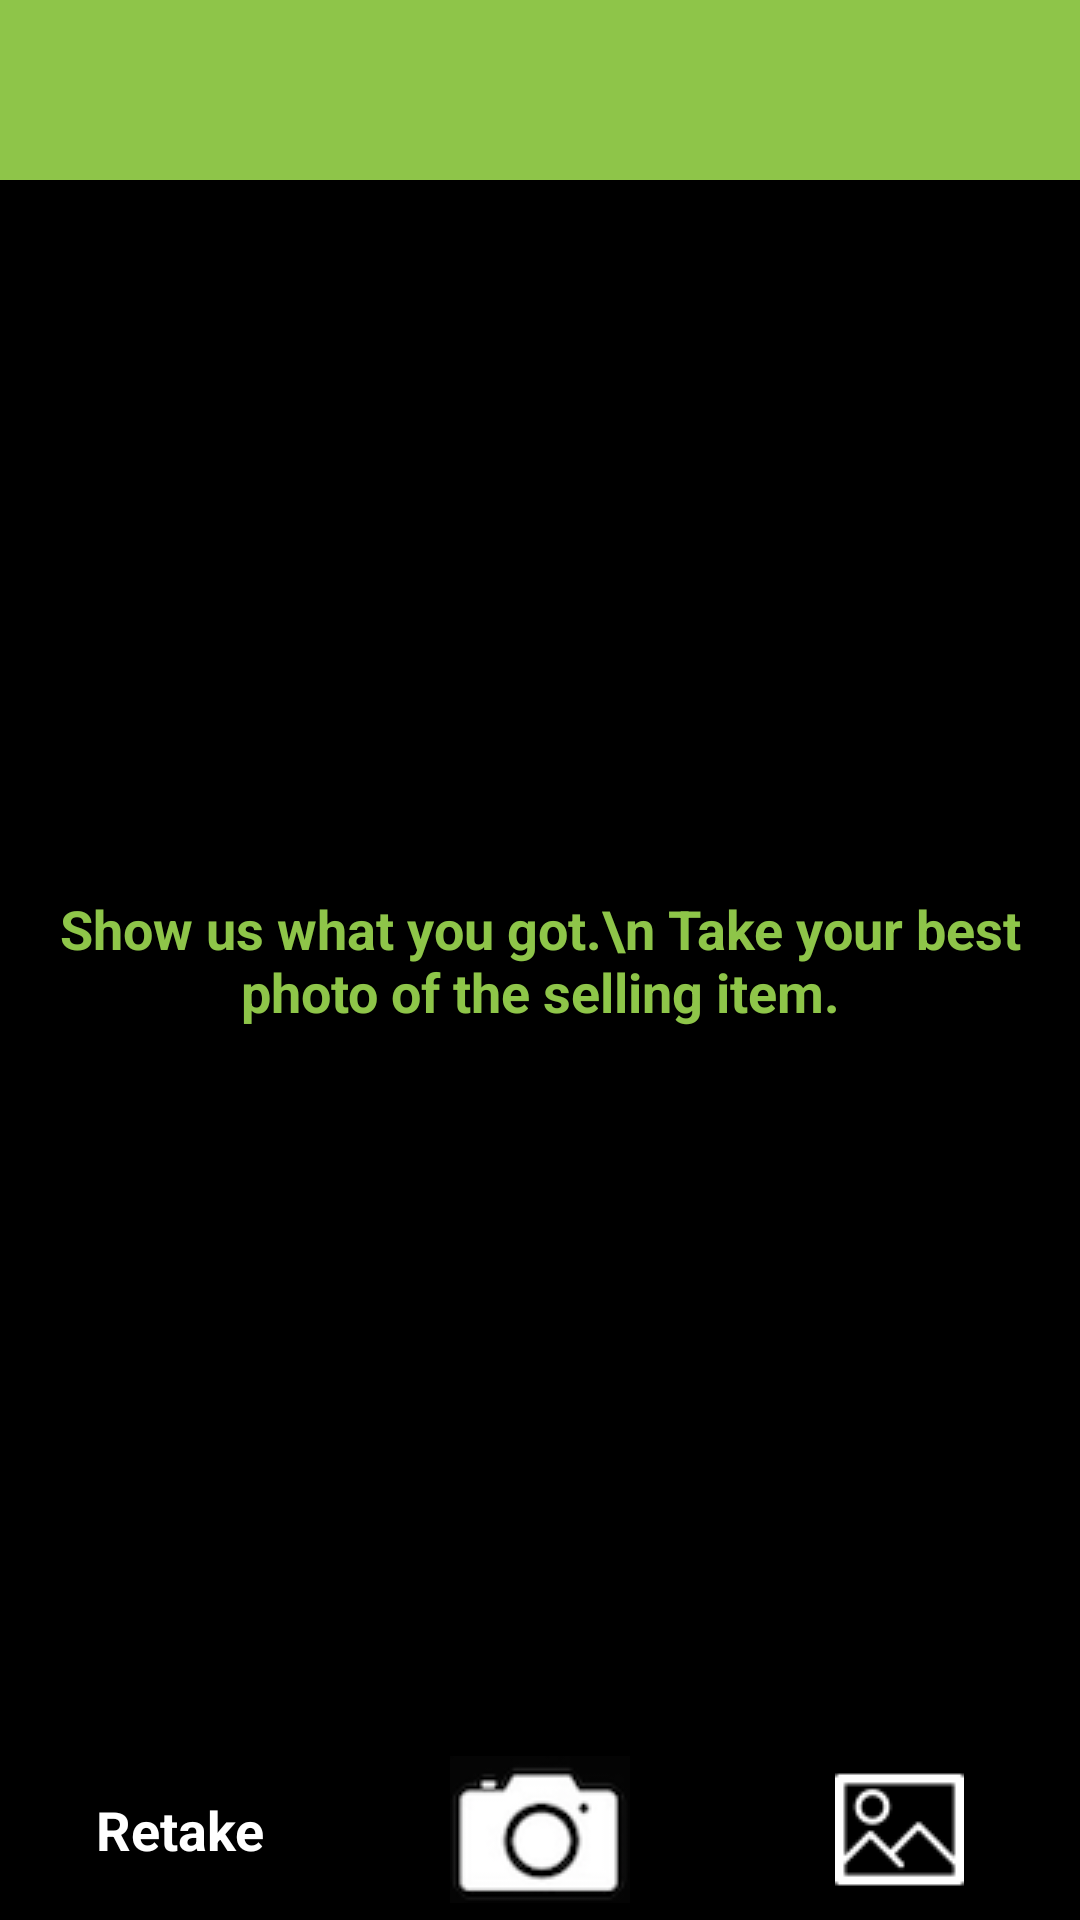

Where to tap for icons on this 1080x1920 app screen, as [x,y]:
cam: [538,1830]
gallery: [899,1829]
